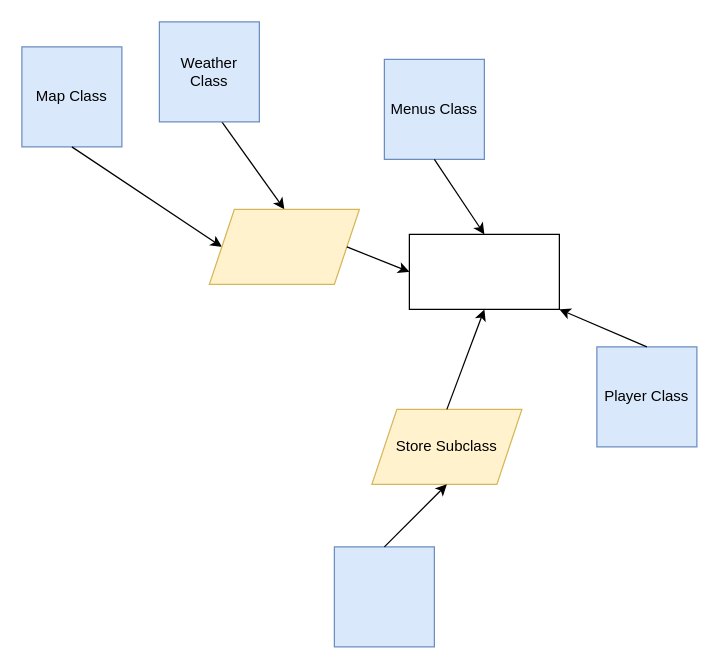
Some shapes in this 719 by 669 pixel diagram are drawn without their labels. Each missing label, with the centre of its shape:
"APP" goes at [483,271].
"Time Subclass" goes at [283,246].
"Wagon Class" goes at [383,596].
